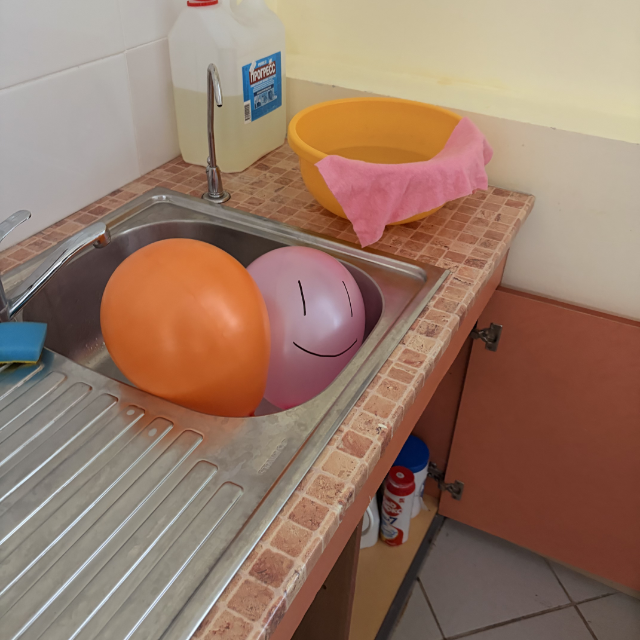balloon: (100, 237, 271, 418), (245, 246, 366, 412)
